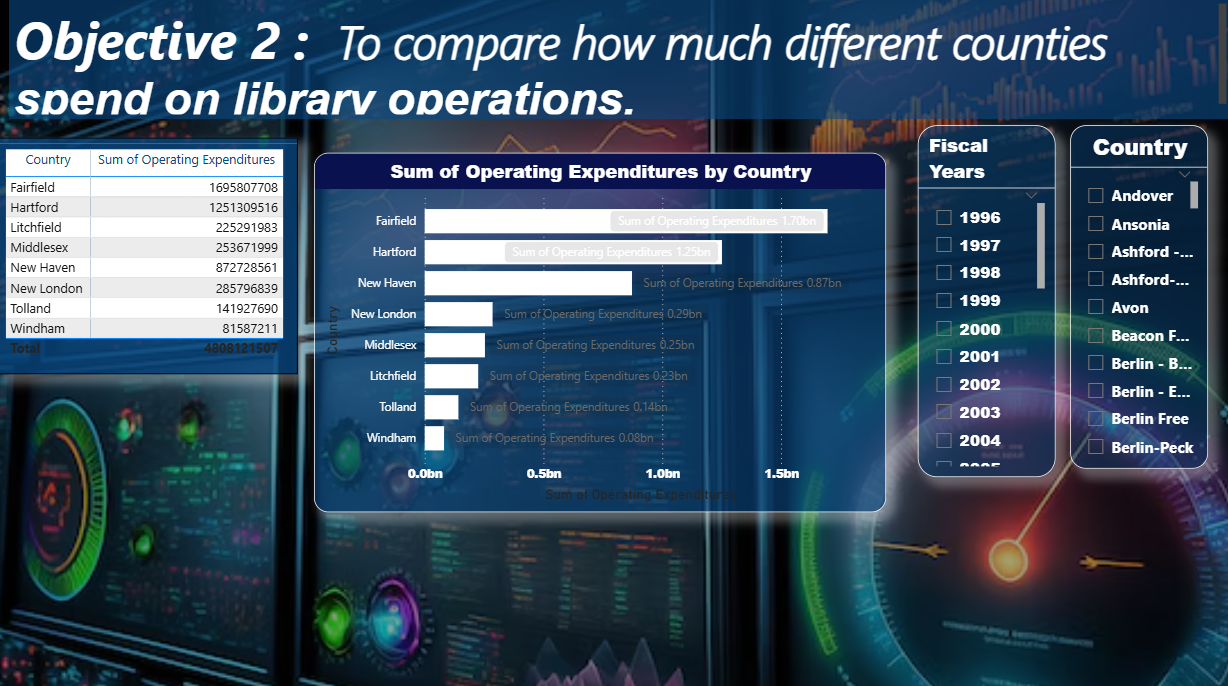

Layout of this report page (visuals, bound fields, positions):
{"tool":"powerbi","page":{"name":"Objective 2","canvas":[1280,720],"ordinal":3},"visuals":[{"type":"textbox","box":[10.6,0,1269.4,124.7],"z":0},{"type":"tableEx","fields":{"Values":["Public_Libraries.Country","Sum(Public_Libraries.Operating Expenditures)"]},"box":[0,144.7,310.6,245.9],"z":1000},{"type":"slicer","title":"Fiscal Years","fields":{"Values":["Public_Libraries.Fiscal Year"]},"box":[954.1,130.6,143.5,365.9],"z":2000},{"type":"slicer","title":"Country ","fields":{"Values":["Public_Libraries.Library"]},"box":[1112.9,130.6,143.5,356.5],"z":3000},{"type":"clusteredBarChart","title":"Sum of Operating Expenditures by Country","fields":{"Category":["Public_Libraries.County"],"Y":["Sum(Public_Libraries.Operating Expenditures)"]},"box":[327.8,160,594.4,373.3],"z":4000}]}

Visuals, with their boxes in screenshot pixels (x1, y1, x2, y2), scaled from the page's 1280x720 canvas onto the 1228x686 screenshot:
textbox: crop(10, 0, 1227, 119)
tableEx - Public_Libraries.Country x Sum(Public_Libraries.Operating Expenditures): crop(0, 138, 298, 372)
"Fiscal Years" slicer: crop(915, 124, 1053, 473)
"Country " slicer: crop(1068, 124, 1205, 464)
"Sum of Operating Expenditures by Country" clusteredBarChart: crop(314, 152, 885, 508)
